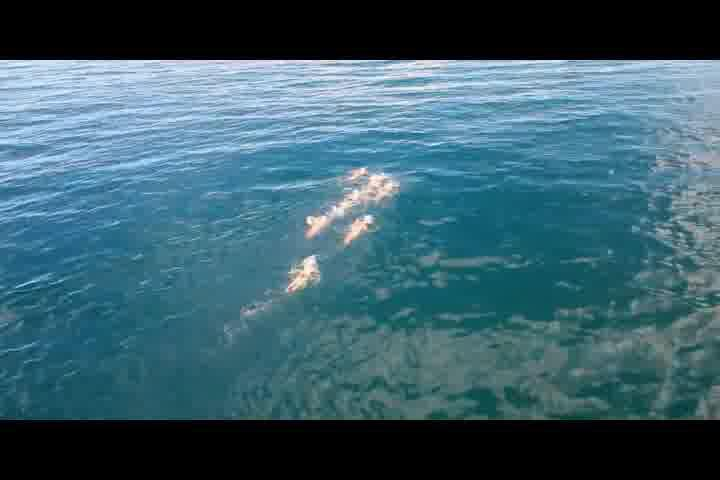human: (338, 222, 364, 256), (295, 259, 311, 286)
